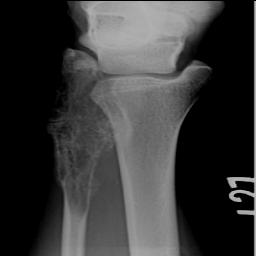cancer: (44, 45, 114, 220)
